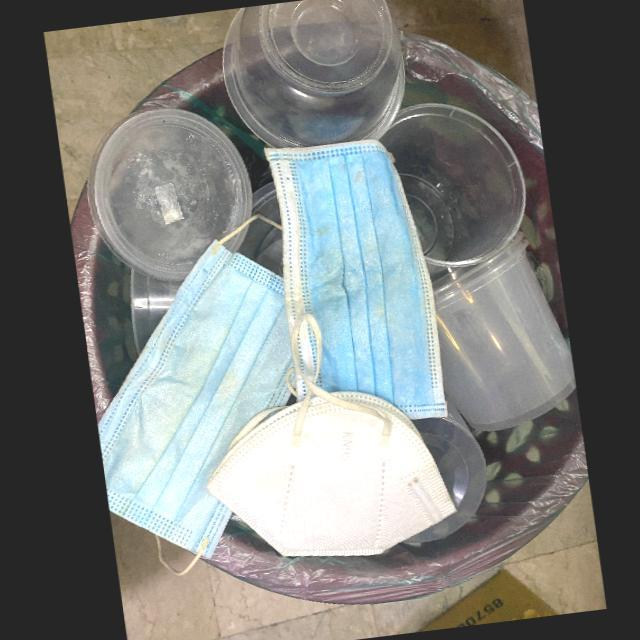plastic: (86, 108, 252, 281), (432, 230, 575, 430), (221, 0, 405, 149), (378, 103, 525, 267), (400, 417, 486, 543)
